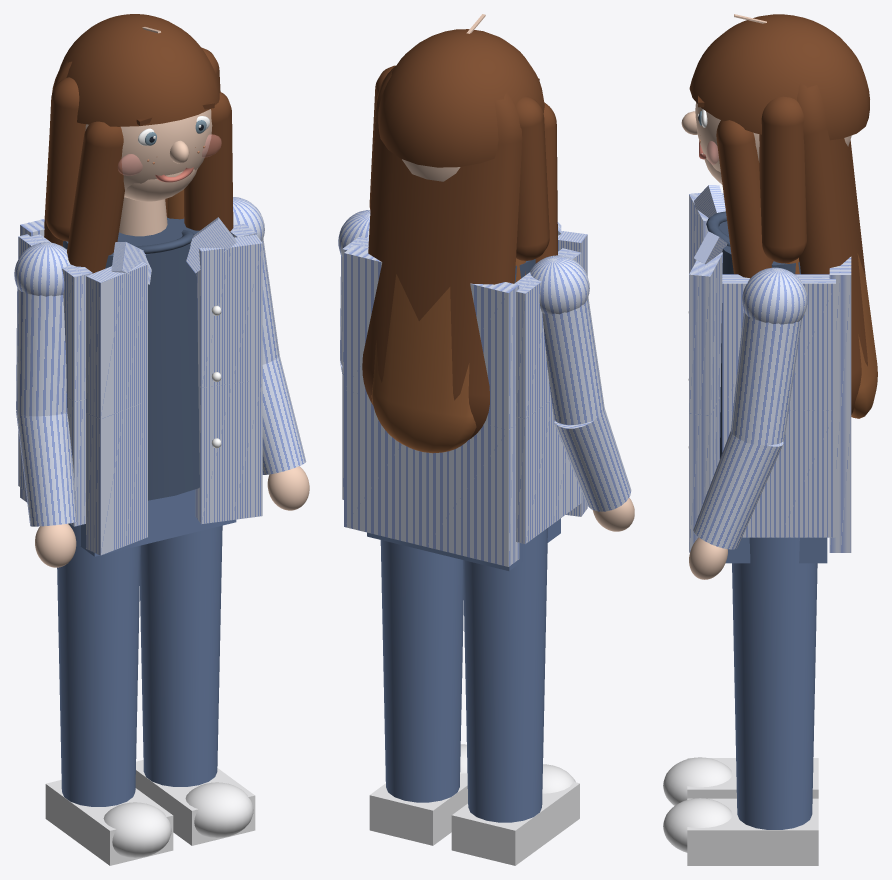
The model's file is anne.glb.
3 views of the same model, side by side, from view 1: azimuth 30°, elevation 25°; view 2: azimuth 150°, elevation 25°; view 3: azimuth 270°, elevation 25° (orthographic).
Parts seen in each view (by area): view 1: Nicole; view 2: Nicole; view 3: Nicole.
Part boxes in pixels (x1,y1,x2,y2): Nicole: (14, 14, 309, 865); Nicole: (338, 14, 634, 865); Nicole: (663, 14, 877, 865).
Size of the model in its own units: 0.7258 by 2.05 by 0.4904.
15 materials, 1 textured.
